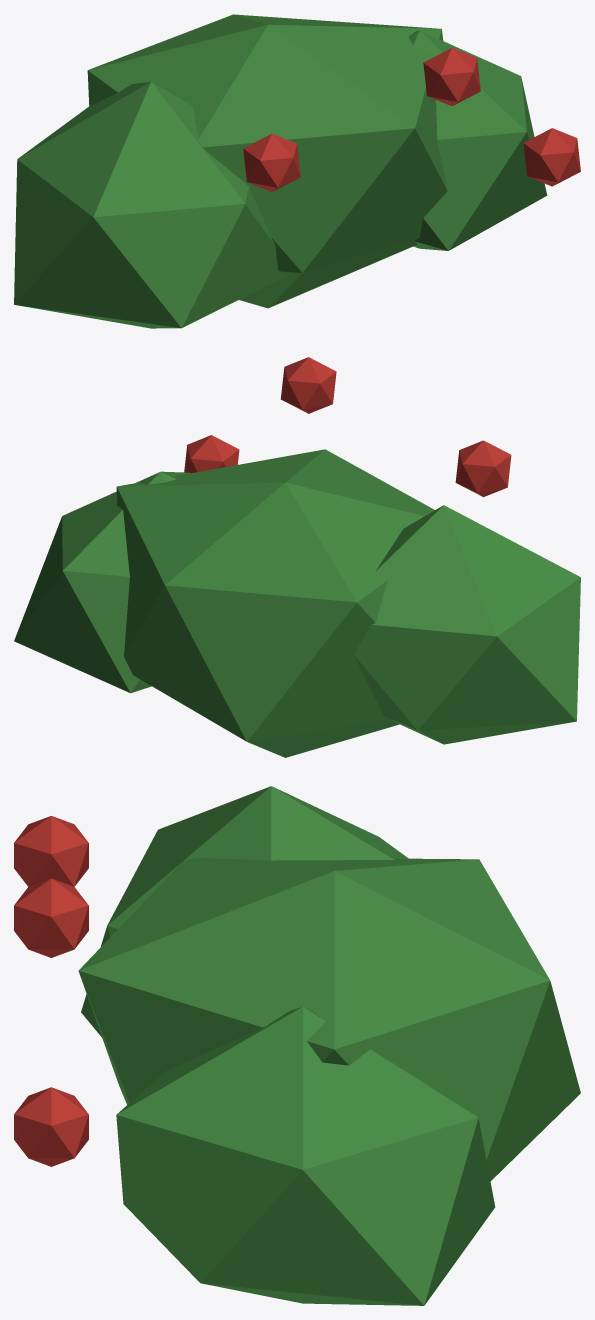
Rendered from bush.glb.
3 views of the same model, one above another, from view 1: azimuth 30°, elevation 25°; view 2: azimuth 150°, elevation 25°; view 3: azimuth 270°, elevation 25° (orthographic). The views are drawn at different scales.
Parts seen in each view (by area): view 1: prop_bush; view 2: prop_bush; view 3: prop_bush.
Boxes of the visible parts, box(x1,y1,x2,y2) form: prop_bush: box(14, 14, 580, 328); prop_bush: box(14, 357, 580, 757); prop_bush: box(14, 786, 580, 1305).
Bounding box in the file's own units: 0.2617 × 0.1515 × 0.1804.
